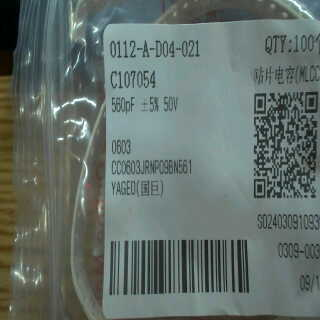560pF: (107, 93, 139, 117)
